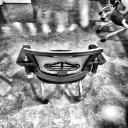chair_success: (14, 43, 108, 106)
